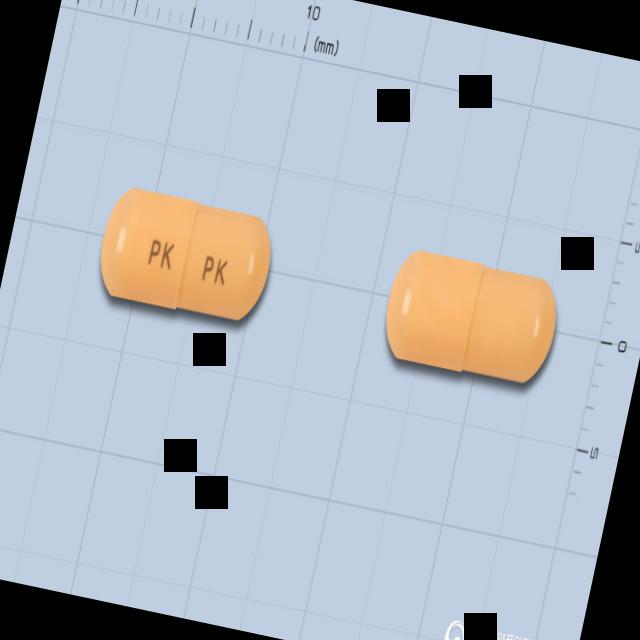Cefac Cap: (89, 177, 284, 332)
